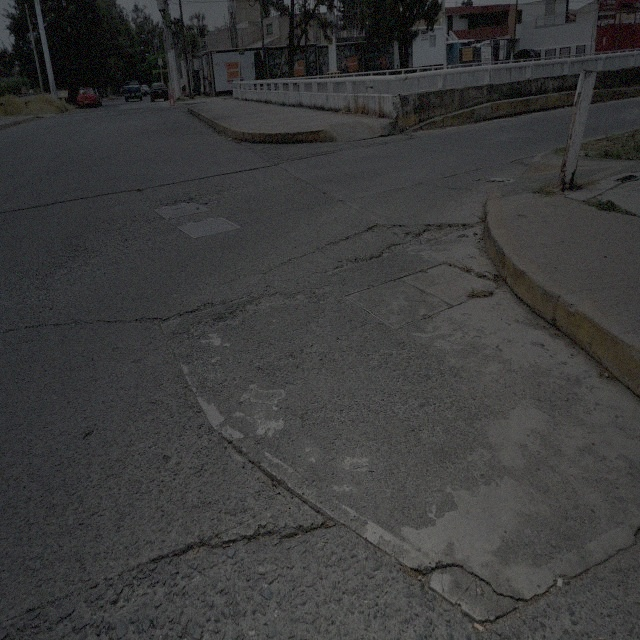pothole: (406, 563, 430, 595), (428, 217, 473, 233)
